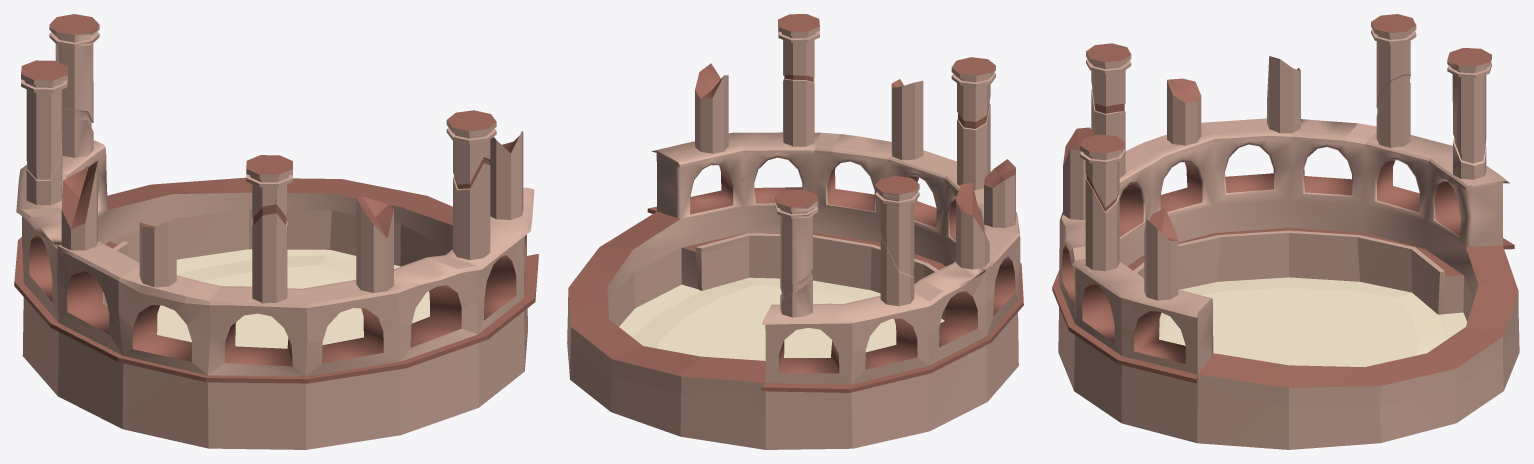
File: estructura coliseo.fbx
3 renders of one model, left to right at view 1: azimuth 30°, elevation 25°; view 2: azimuth 150°, elevation 25°; view 3: azimuth 270°, elevation 25°, orthographic. The views are drawn at different scales.
Parts seen in each view (by area): view 1: coliseo; view 2: coliseo; view 3: coliseo.
Part boxes in pixels (x1,y1,x2,y2): coliseo: (14, 14, 538, 449); coliseo: (567, 14, 1023, 449); coliseo: (1052, 14, 1519, 449).
Bounding box in the file's own units: 5160 × 3134 × 5160.
1 material, 1 textured.
